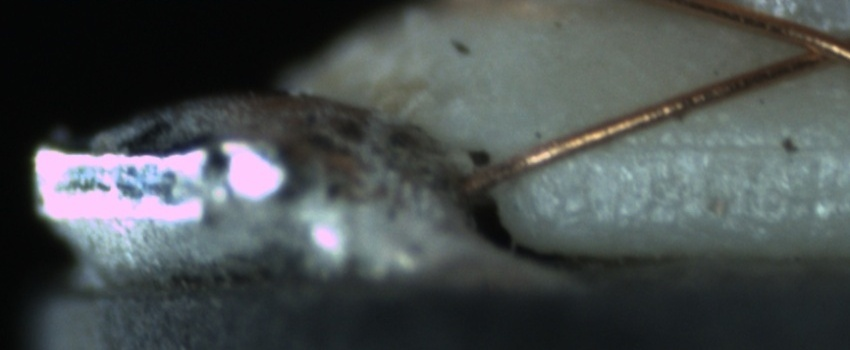CL: (773, 22, 847, 74)
DL: (608, 111, 846, 179)
